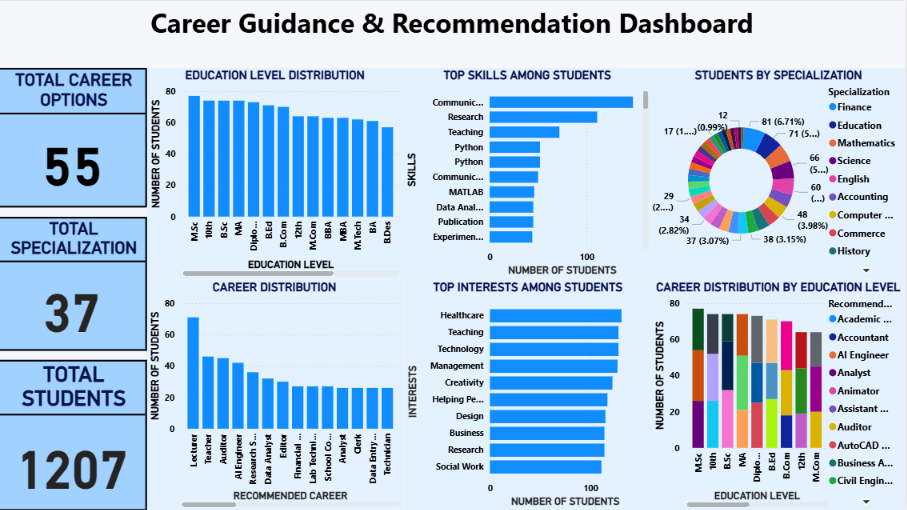

The dashboard page shown, as its layout file describes it:
{"tool":"powerbi","page":{"name":"Page 1","canvas":[1280,720],"ordinal":0},"visuals":[{"type":"clusteredColumnChart","title":"CAREER DISTRIBUTION","fields":{"Category":["perfectly_realistic_career_guidance_dataset_1500.Recommended_Career"],"Y":["CountNonNull(perfectly_realistic_career_guidance_dataset_1500.Recommended_Career)"]},"box":[208.6,392.9,362.9,325.7],"z":0},{"type":"clusteredColumnChart","title":"EDUCATION LEVEL DISTRIBUTION","fields":{"Category":["perfectly_realistic_career_guidance_dataset_1500.Education_Level"],"Y":["CountNonNull(perfectly_realistic_career_guidance_dataset_1500.Education_Level)"]},"box":[210,94.3,361.4,298.6],"z":1000},{"type":"clusteredBarChart","title":"TOP SKILLS AMONG STUDENTS","fields":{"Category":["skills_table.Skills"],"Y":["CountNonNull(skills_table.Skills)"]},"box":[570,94.3,351.4,298.6],"z":2000},{"type":"clusteredBarChart","title":"TOP INTERESTS AMONG STUDENTS","fields":{"Category":["perfectly_realistic_career_guidance_dataset_1500.Interests"],"Y":["CountNonNull(perfectly_realistic_career_guidance_dataset_1500.Interests)"]},"box":[571.4,392.9,350,325.7],"z":3000},{"type":"donutChart","title":"STUDENTS BY SPECIALIZATION","fields":{"Category":["perfectly_realistic_career_guidance_dataset_1500.Specialization"],"Y":["CountNonNull(perfectly_realistic_career_guidance_dataset_1500.Specialization)"]},"box":[920,94.3,360,298.6],"z":4000},{"type":"columnChart","title":"CAREER DISTRIBUTION BY EDUCATION LEVEL","fields":{"Category":["perfectly_realistic_career_guidance_dataset_1500.Education_Level"],"Y":["CountNonNull(perfectly_realistic_career_guidance_dataset_1500.Recommended_Career)"],"Series":["perfectly_realistic_career_guidance_dataset_1500.Recommended_Career"]},"box":[920,392.9,360,325.7],"z":5000},{"type":"card","title":"TOTAL STUDENTS","fields":{"Values":["CountNonNull(perfectly_realistic_career_guidance_dataset_1500.Recommended_Career)"]},"box":[0,505.7,210,212.9],"z":6000},{"type":"card","title":"TOTAL CAREER OPTIONS","fields":{"Values":["Count(perfectly_realistic_career_guidance_dataset_1500.Recommended_Career)"]},"box":[0,94.3,210,197.1],"z":7000},{"type":"card","title":"TOTAL SPECIALIZATION","fields":{"Values":["Count(perfectly_realistic_career_guidance_dataset_1500.Specialization)"]},"box":[0,304.3,210,188.6],"z":8000},{"type":"textbox","box":[0,0,1280,94.3],"z":9000}]}

Visuals, with their boxes in screenshot pixels (x1, y1, x2, y2), scaled from the page's 1280x720 canvas onto the 907x510 screenshot:
"CAREER DISTRIBUTION" clusteredColumnChart: 148/278/405/509
"EDUCATION LEVEL DISTRIBUTION" clusteredColumnChart: 149/67/405/278
"TOP SKILLS AMONG STUDENTS" clusteredBarChart: 404/67/653/278
"TOP INTERESTS AMONG STUDENTS" clusteredBarChart: 405/278/653/509
"STUDENTS BY SPECIALIZATION" donutChart: 652/67/906/278
"CAREER DISTRIBUTION BY EDUCATION LEVEL" columnChart: 652/278/906/509
"TOTAL STUDENTS" card: 0/358/149/509
"TOTAL CAREER OPTIONS" card: 0/67/149/206
"TOTAL SPECIALIZATION" card: 0/216/149/349
textbox: 0/0/906/67
